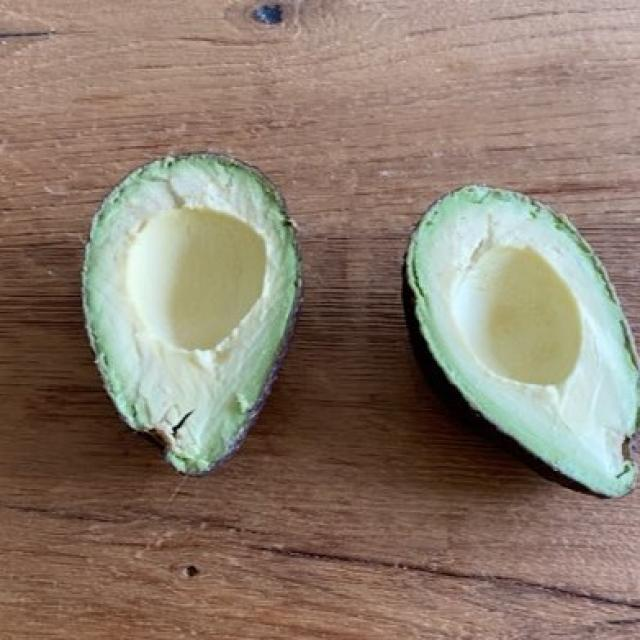avocado: (79, 158, 634, 488)
